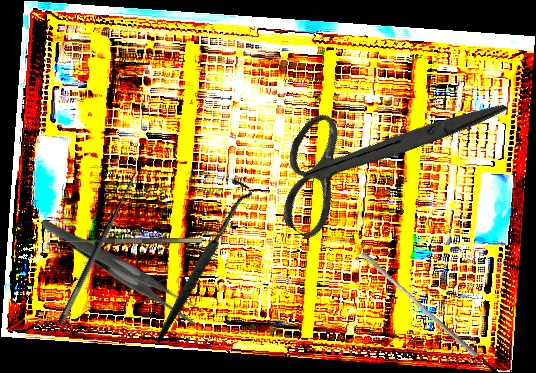Dressing Forceps: (40, 178, 208, 360)
Hook Surgical: (105, 174, 294, 344), (45, 162, 143, 326), (60, 238, 202, 251)
Iris Scissors: (251, 17, 509, 290)
Pusher: (357, 250, 483, 359)
